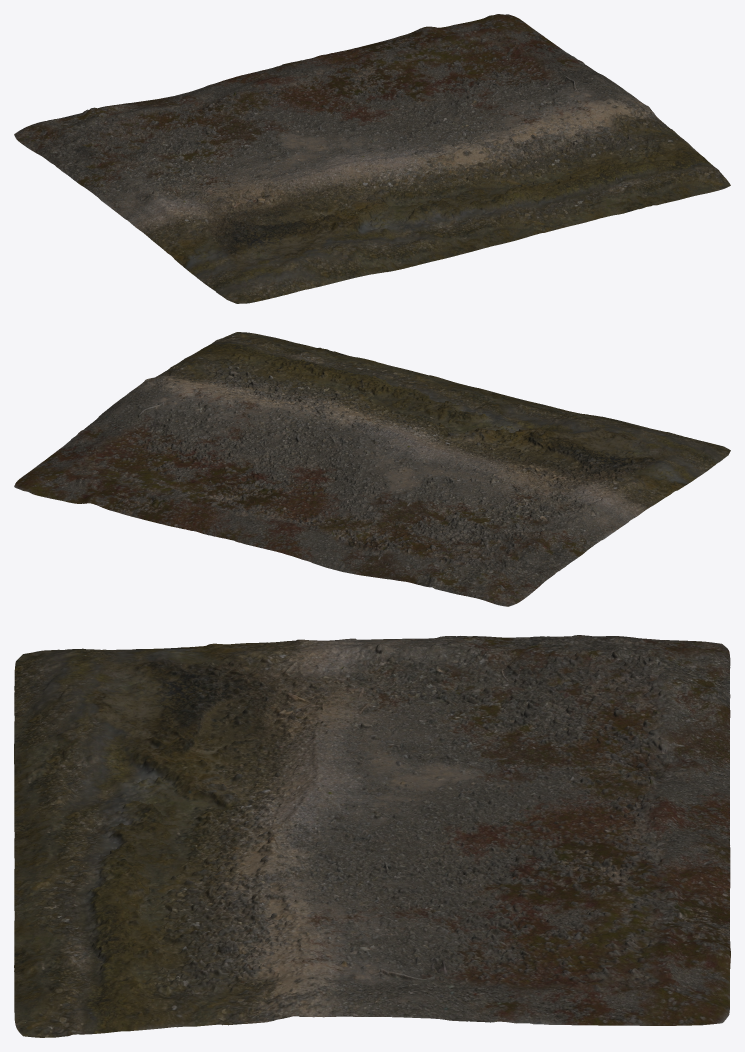
The model's file is coast_line_01.glb.
The picture shows the model from 3 angles, top to bottom: view 1: azimuth 30°, elevation 25°; view 2: azimuth 150°, elevation 25°; view 3: azimuth 270°, elevation 25°; orthographic projection. The views are drawn at different scales.
Parts seen in each view (by area): view 1: coast_line_01; view 2: coast_line_01; view 3: coast_line_01.
Part boxes in pixels (x1,y1,x2,y2): coast_line_01: (14,14,730,303); coast_line_01: (14,332,730,606); coast_line_01: (14,635,730,1037).
Size of the model in its own units: 54.61 by 2.63 by 42.96.
1 material, 1 textured.
